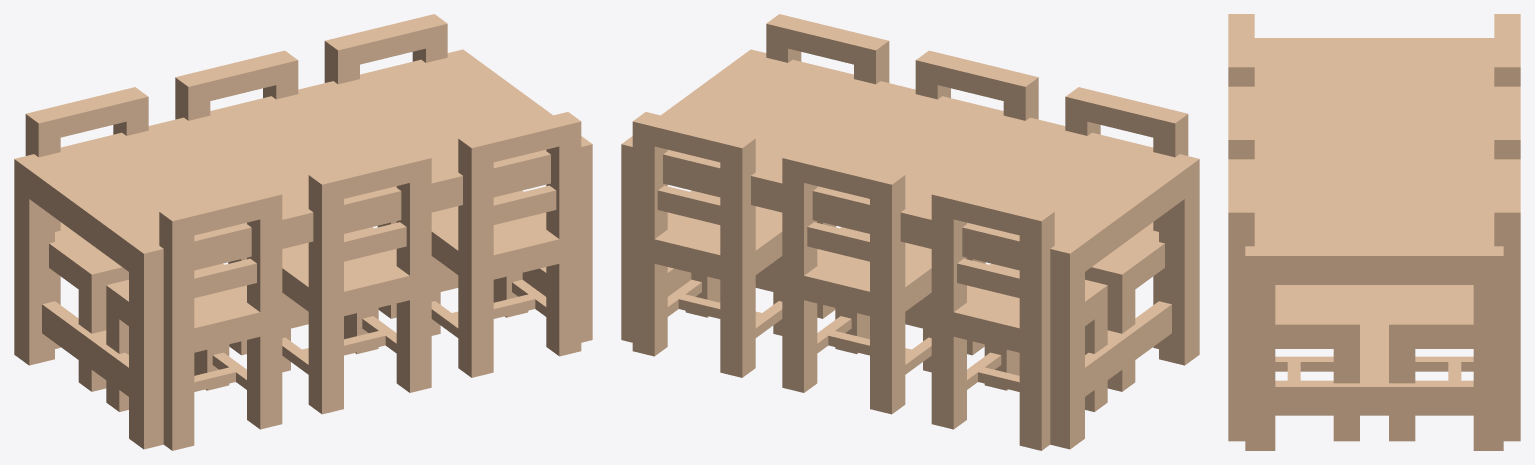
File: dining-6.glb
3 renders of one model, left to right at view 1: azimuth 30°, elevation 25°; view 2: azimuth 150°, elevation 25°; view 3: azimuth 270°, elevation 25°, orthographic.
Visible parts, largest first — view 1: table(Clone); view 2: table(Clone); view 3: table(Clone).
Boxes of the visible parts, x1,y1,x2,y2 form: table(Clone): [14, 14, 592, 450]; table(Clone): [621, 14, 1199, 450]; table(Clone): [1228, 14, 1520, 450].
Bounding box in the file's own units: 1.8 × 0.8801 × 1.02.
